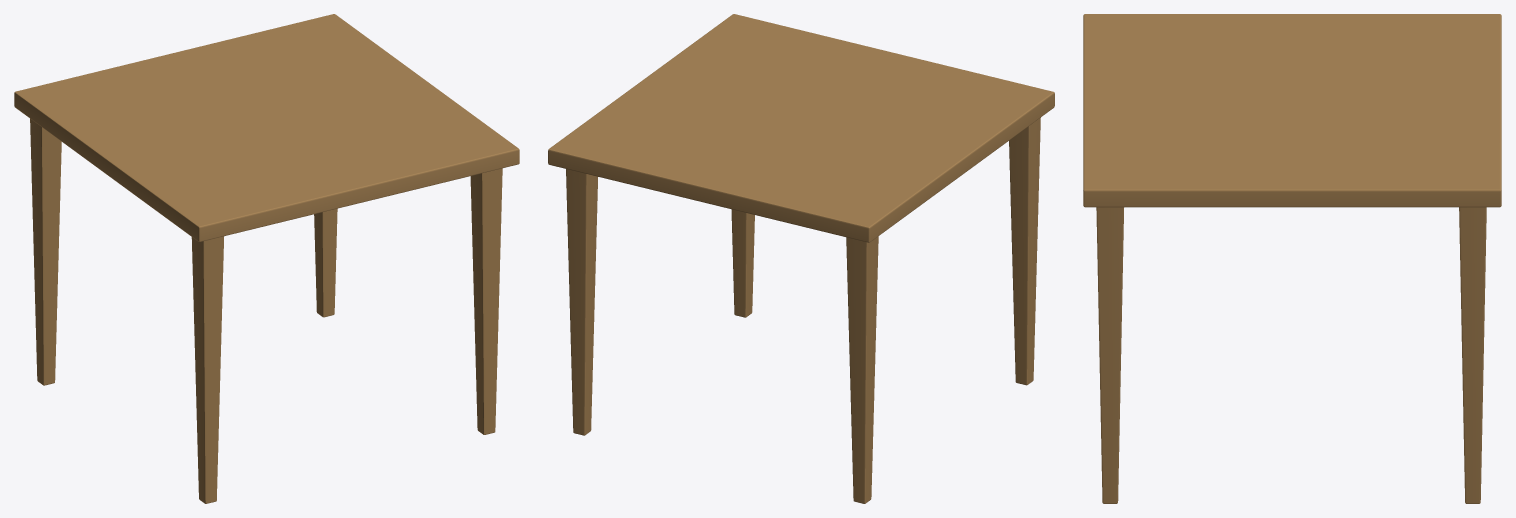
Rendered from LongTable.fbx.
3 renders of one model, left to right at view 1: azimuth 30°, elevation 25°; view 2: azimuth 150°, elevation 25°; view 3: azimuth 270°, elevation 25°, orthographic. The views are drawn at different scales.
Visible parts, largest first — view 1: pCube1, pCube5, pCube2, pCube4, pCube3; view 2: pCube1, pCube4, pCube3, pCube5, pCube2; view 3: pCube1, pCube3, pCube2.
Part boxes in pixels (x1,y1,x2,y2): pCube1: [14, 14, 519, 241]; pCube5: [191, 236, 223, 503]; pCube2: [470, 168, 502, 434]; pCube4: [30, 118, 61, 385]; pCube3: [314, 208, 337, 317]; pCube1: [548, 14, 1054, 242]; pCube4: [846, 236, 878, 503]; pCube3: [566, 169, 597, 435]; pCube5: [1009, 117, 1040, 385]; pCube2: [731, 209, 754, 317]; pCube1: [1083, 14, 1501, 207]; pCube3: [1459, 207, 1486, 503]; pCube2: [1096, 207, 1123, 503].
Size of the model in its own units: 4.3 by 3.67 by 4.3.
